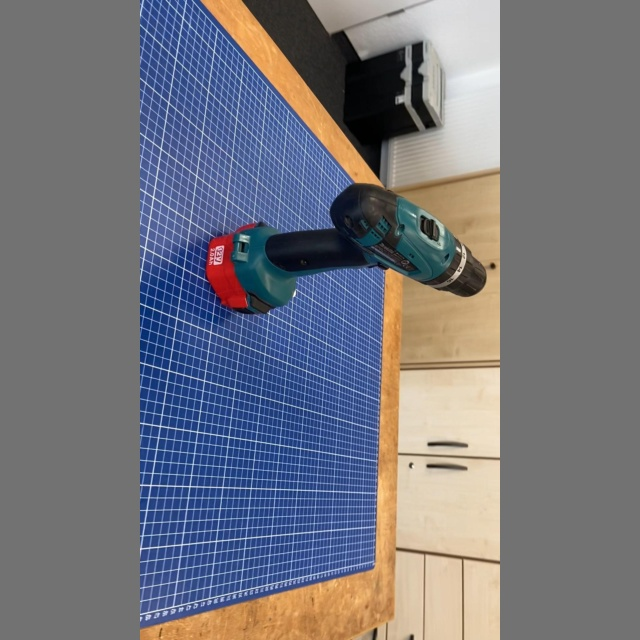drill: (201, 178, 492, 319)
